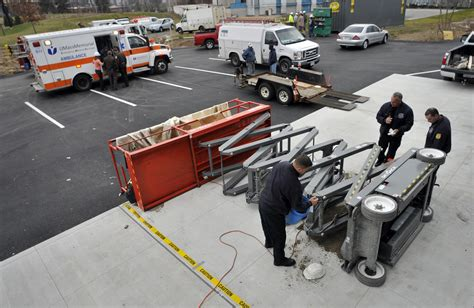Scissor Lift: (108, 97, 445, 287)
